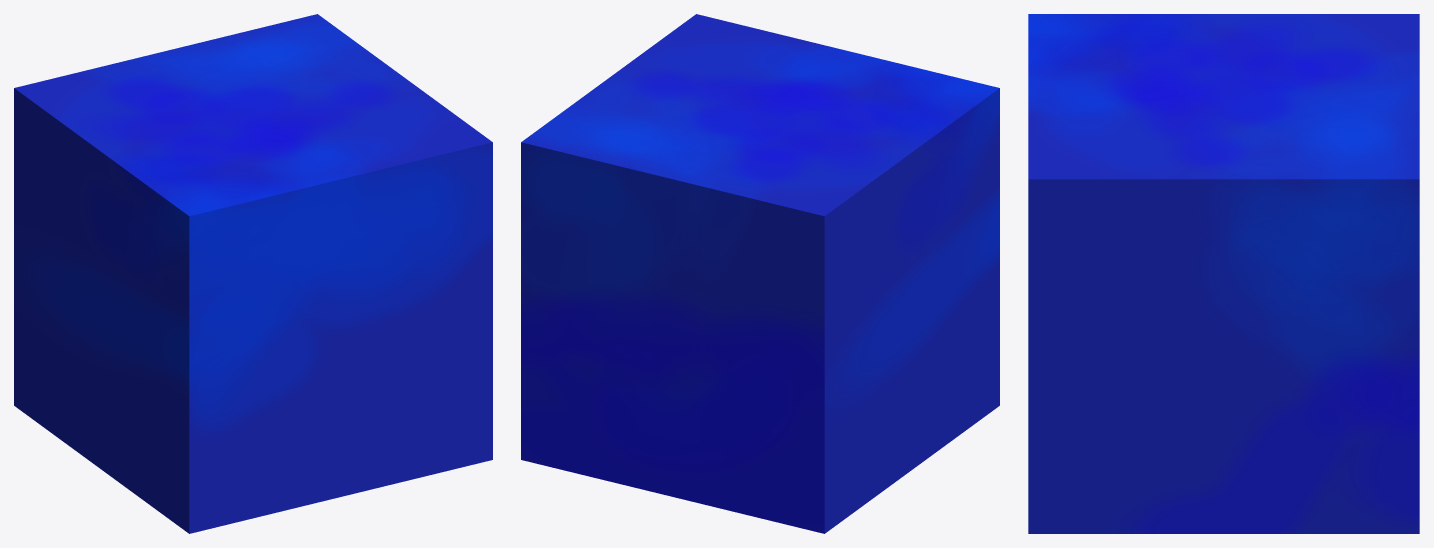
Rendered from deep_water.glb.
3 views of the same model, side by side, from view 1: azimuth 30°, elevation 25°; view 2: azimuth 150°, elevation 25°; view 3: azimuth 270°, elevation 25° (orthographic). The views are drawn at different scales.
Visible parts, largest first — view 1: Block_Grass; view 2: Block_Grass; view 3: Block_Grass.
Boxes of the visible parts, x1,y1,x2,y2 form: Block_Grass: (14, 14, 492, 533); Block_Grass: (521, 14, 999, 533); Block_Grass: (1028, 14, 1419, 533).
Bounding box in the file's own units: 2 × 2 × 2.
1 material, 1 textured.
